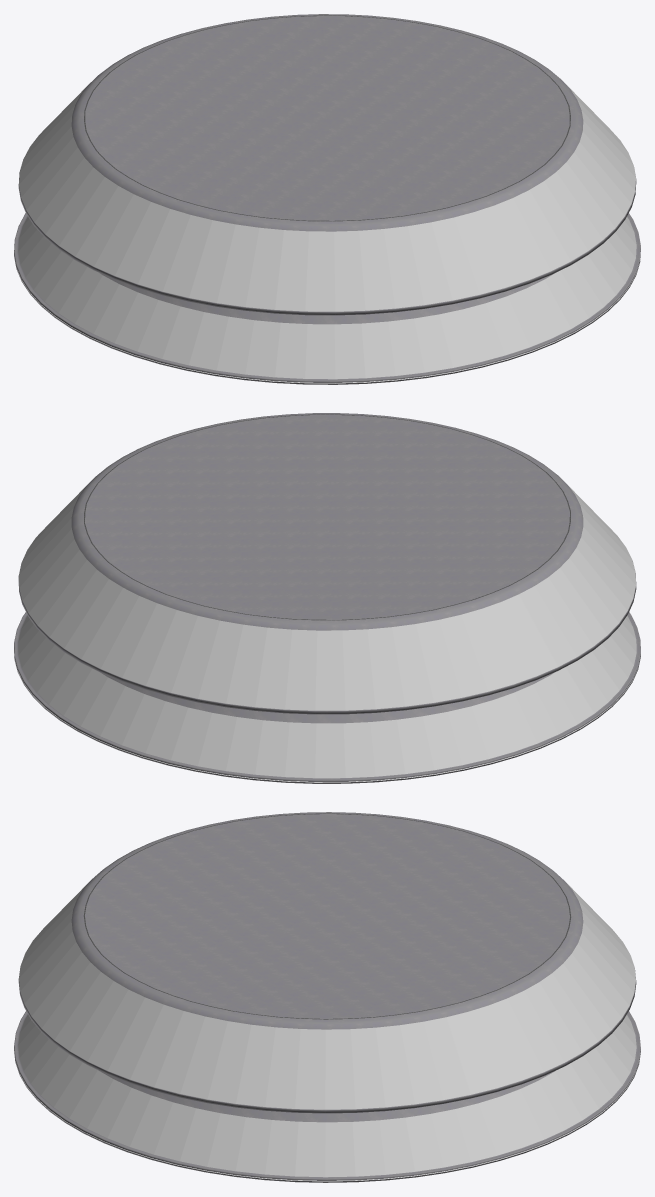
The model's file is SM_Building04c.fbx.
3 renders of one model, top to bottom at view 1: azimuth 30°, elevation 25°; view 2: azimuth 150°, elevation 25°; view 3: azimuth 270°, elevation 25°, orthographic.
Visible parts, largest first — view 1: SM_Building04c, SM_Building04c_ConvexHulls; view 2: SM_Building04c, SM_Building04c_ConvexHulls; view 3: SM_Building04c, SM_Building04c_ConvexHulls.
Part boxes in pixels (x1=…): SM_Building04c: x1=14, y1=14, x2=640, y2=384; SM_Building04c_ConvexHulls: x1=18, y1=82, x2=636, y2=379; SM_Building04c: x1=14, y1=413, x2=640, y2=783; SM_Building04c_ConvexHulls: x1=18, y1=483, x2=636, y2=778; SM_Building04c: x1=14, y1=812, x2=640, y2=1182; SM_Building04c_ConvexHulls: x1=18, y1=881, x2=636, y2=1177.
Bounding box in the file's own units: 8445 × 8445 × 2000.
Materials: 3 (2 with a texture image).
